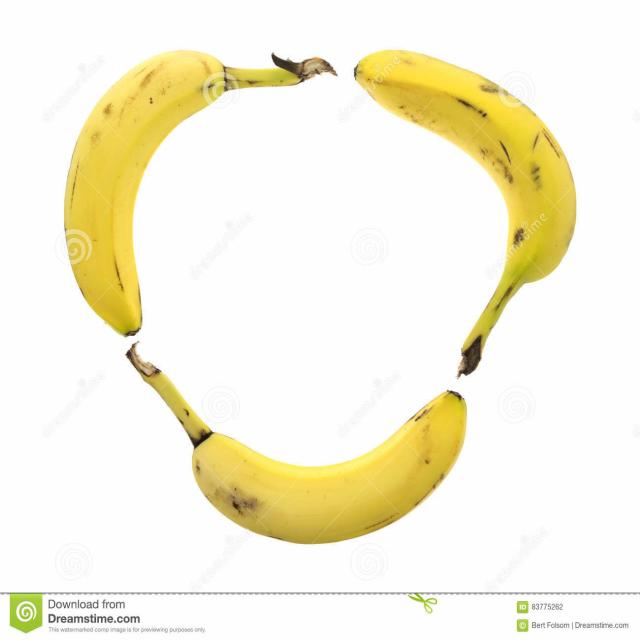Banana: (62, 54, 338, 338), (355, 52, 582, 376), (126, 350, 474, 547)
